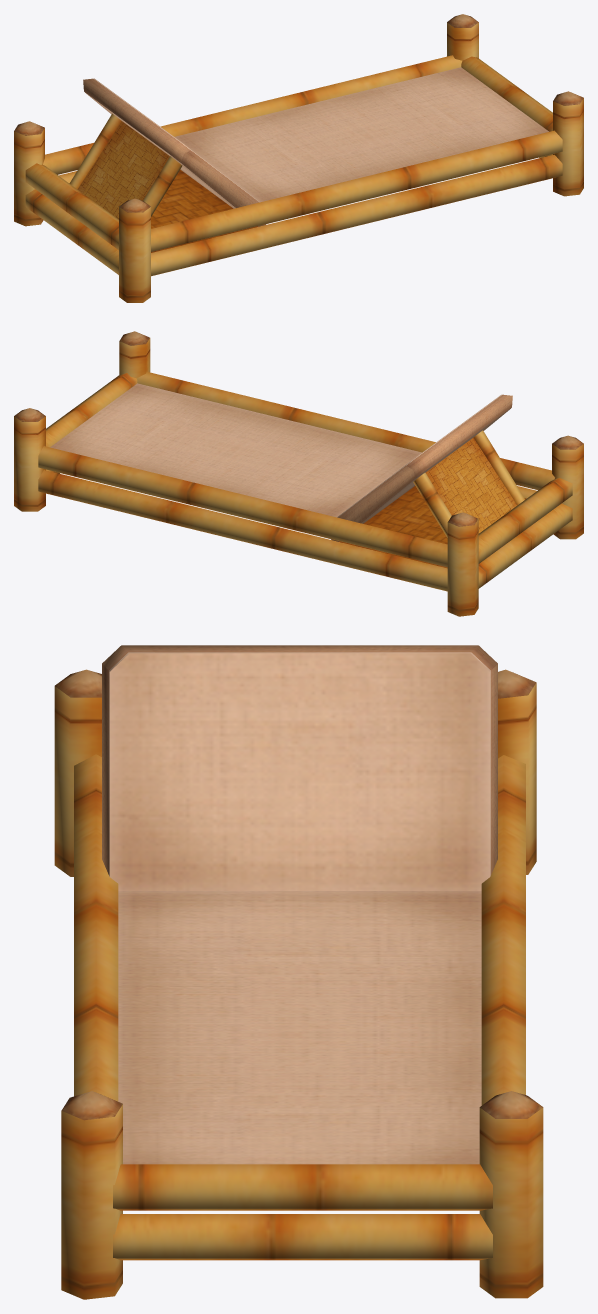
Rendered from Bamboo_SunBed_01.FBX.
The picture shows the model from 3 angles, top to bottom: view 1: azimuth 30°, elevation 25°; view 2: azimuth 150°, elevation 25°; view 3: azimuth 270°, elevation 25°; orthographic projection. The views are drawn at different scales.
Parts seen in each view (by area): view 1: Bamboo_SunBed_01; view 2: Bamboo_SunBed_01; view 3: Bamboo_SunBed_01.
Part boxes in pixels (left/top/right/bottom): Bamboo_SunBed_01: left=14, top=14, right=583, bottom=302; Bamboo_SunBed_01: left=14, top=331, right=583, bottom=616; Bamboo_SunBed_01: left=54, top=645, right=543, bottom=1299.
Size of the model in its own units: 1.99 by 0.9201 by 0.553.
